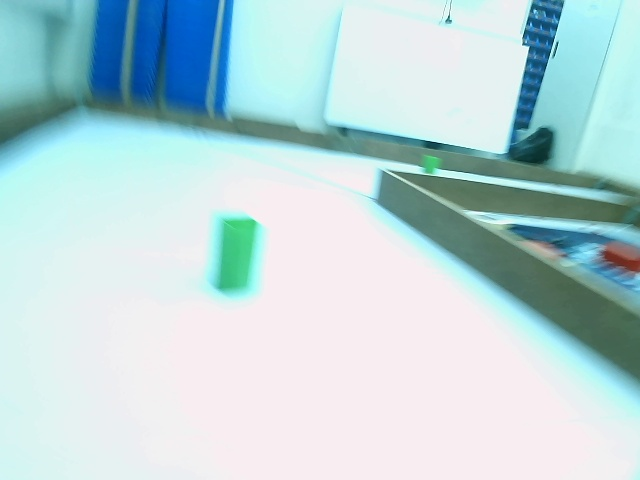green: (215, 212, 256, 292)
